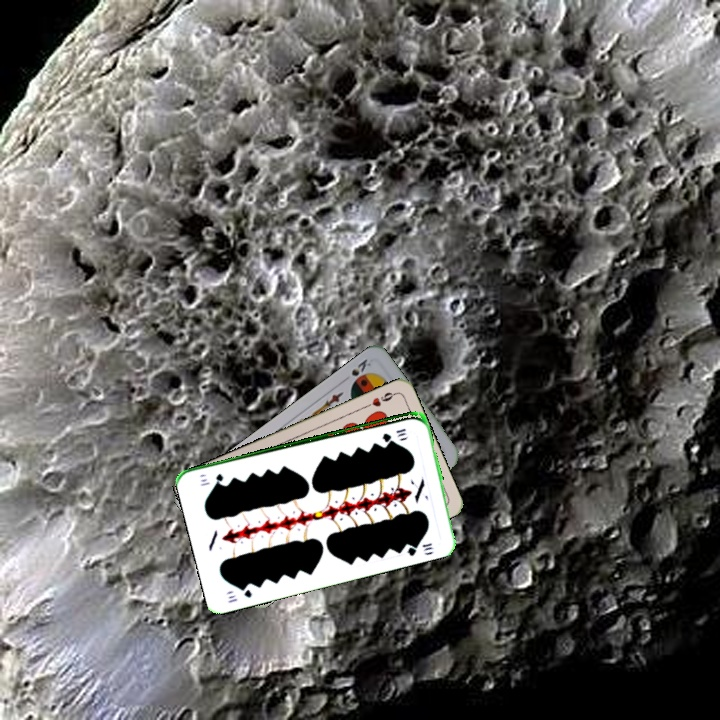G10: (224, 582, 255, 606), (378, 424, 408, 443)
H9: (360, 388, 399, 411)
SK: (338, 355, 374, 385)
